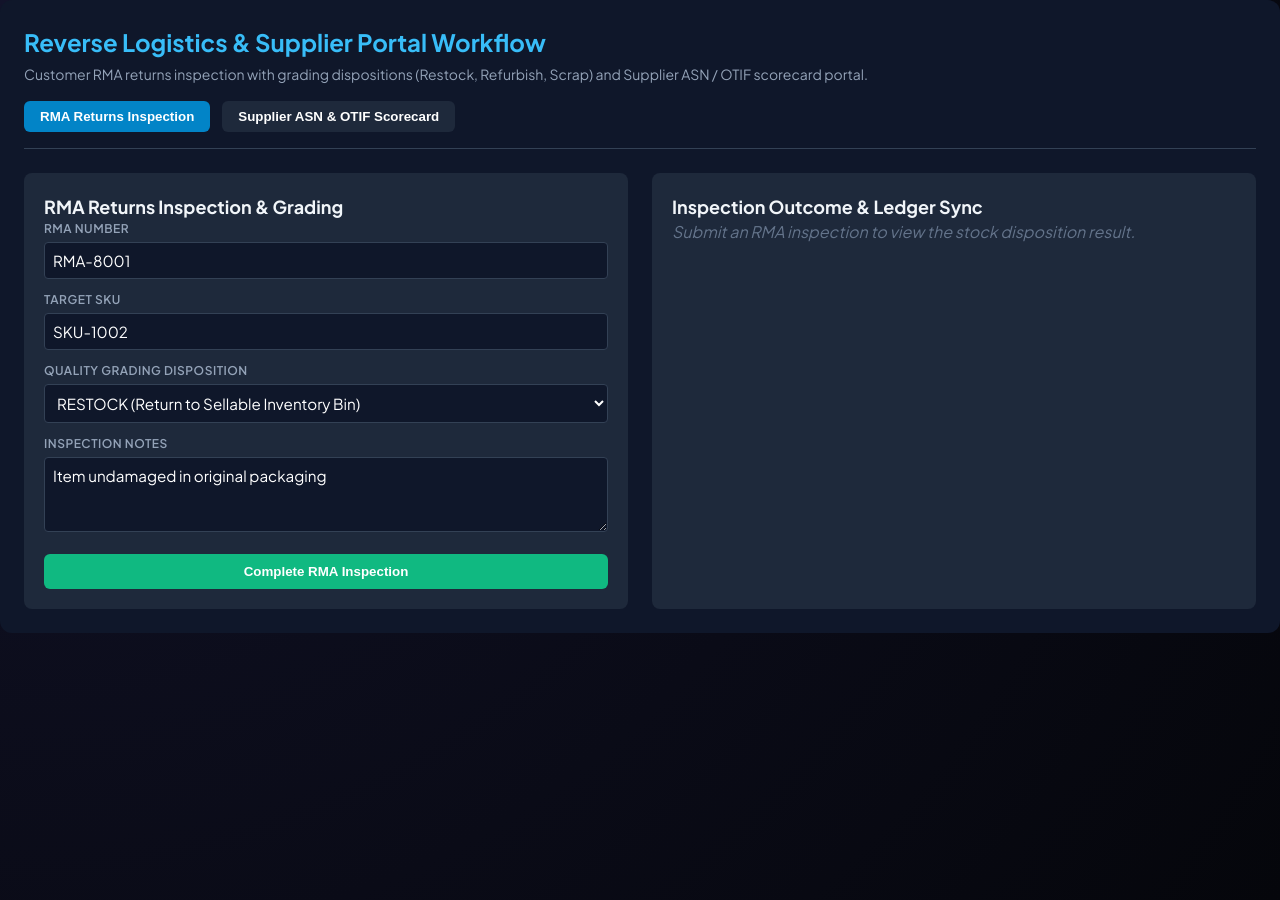
ReverseLogisticsSupplierPanel › handles RMA inspection API fallback flow
This screenshot has width=1280, height=900.
Click the button "Complete RMA Inspection".
click(326, 572)  # box top-left (44, 554), bottom-right (608, 589)
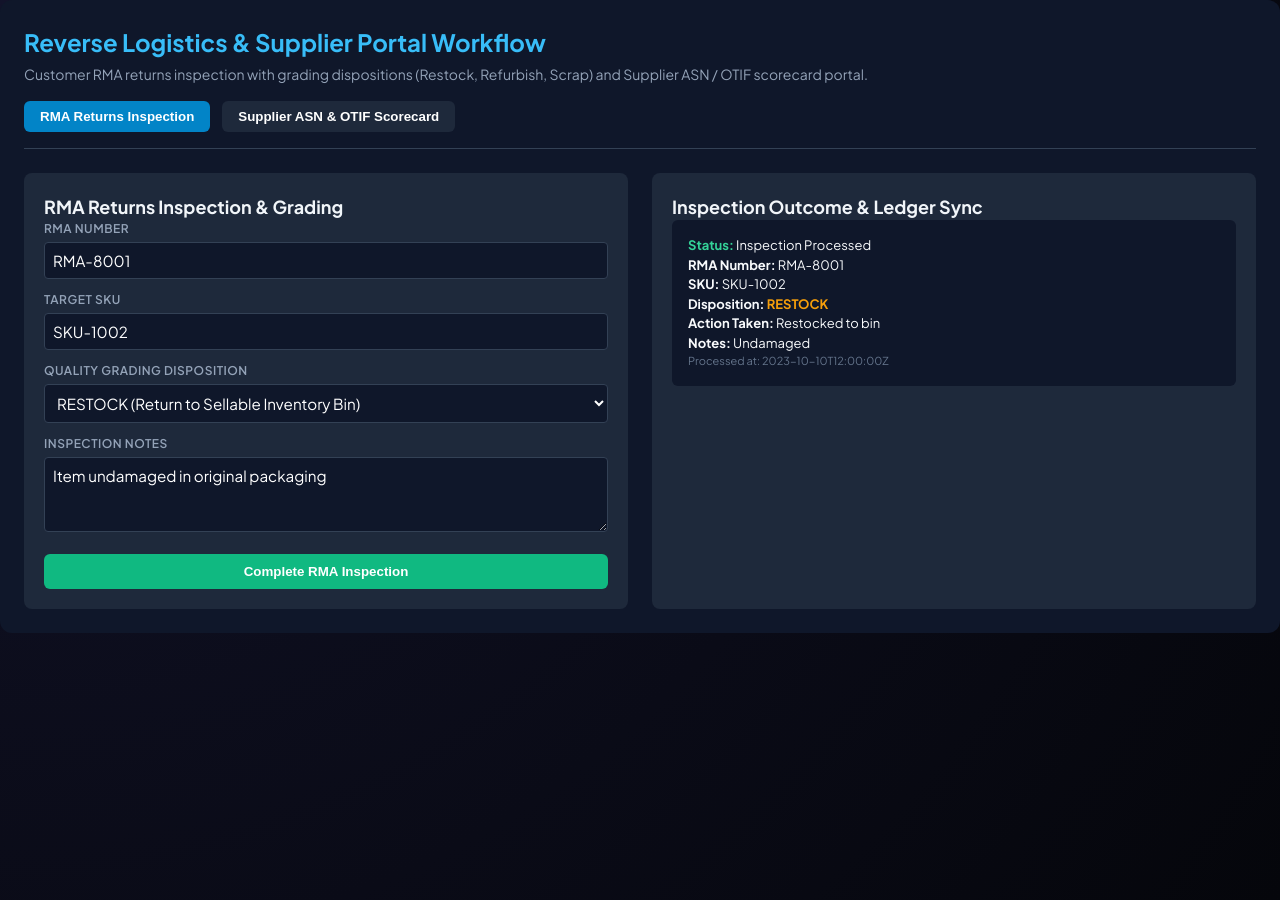
expect the text "Inspection Processed" is shown: met, box top-left (734, 237), bottom-right (871, 253)
expect the text "Restocked to bin" is shown: met, box top-left (776, 315), bottom-right (880, 331)
